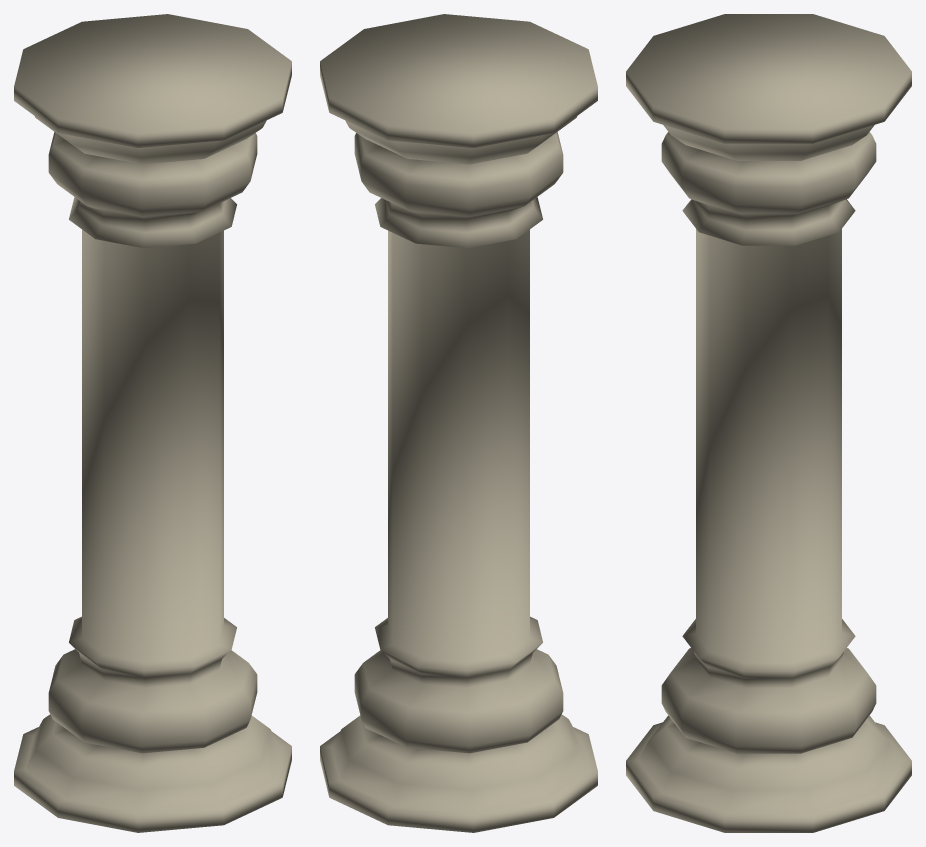
The model's file is Column_Round2.glb.
The picture shows the model from 3 angles, left to right: view 1: azimuth 30°, elevation 25°; view 2: azimuth 150°, elevation 25°; view 3: azimuth 270°, elevation 25°; orthographic projection.
Visible parts, largest first — view 1: Column_Round2; view 2: Column_Round2; view 3: Column_Round2.
Boxes of the visible parts, left/top/right/bottom form: Column_Round2: left=14, top=14, right=291, bottom=832; Column_Round2: left=320, top=14, right=597, bottom=832; Column_Round2: left=626, top=14, right=911, bottom=832.
Size of the model in its own units: 1.4 by 4 by 1.47.
